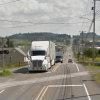Bus: (24, 32, 55, 73)
